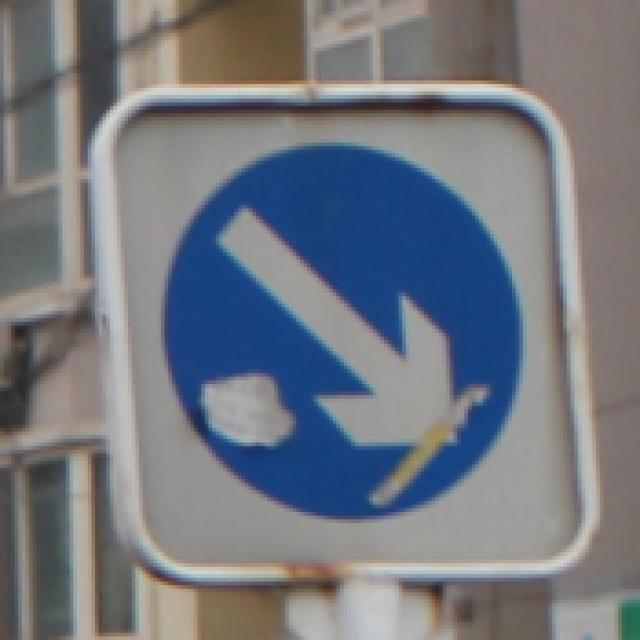Right: (121, 106, 582, 550)
